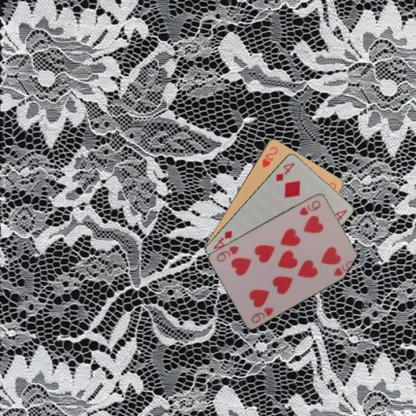2h: (259, 144, 279, 169)
4d: (273, 159, 296, 182)
9h: (248, 305, 275, 324), (296, 198, 322, 216)
